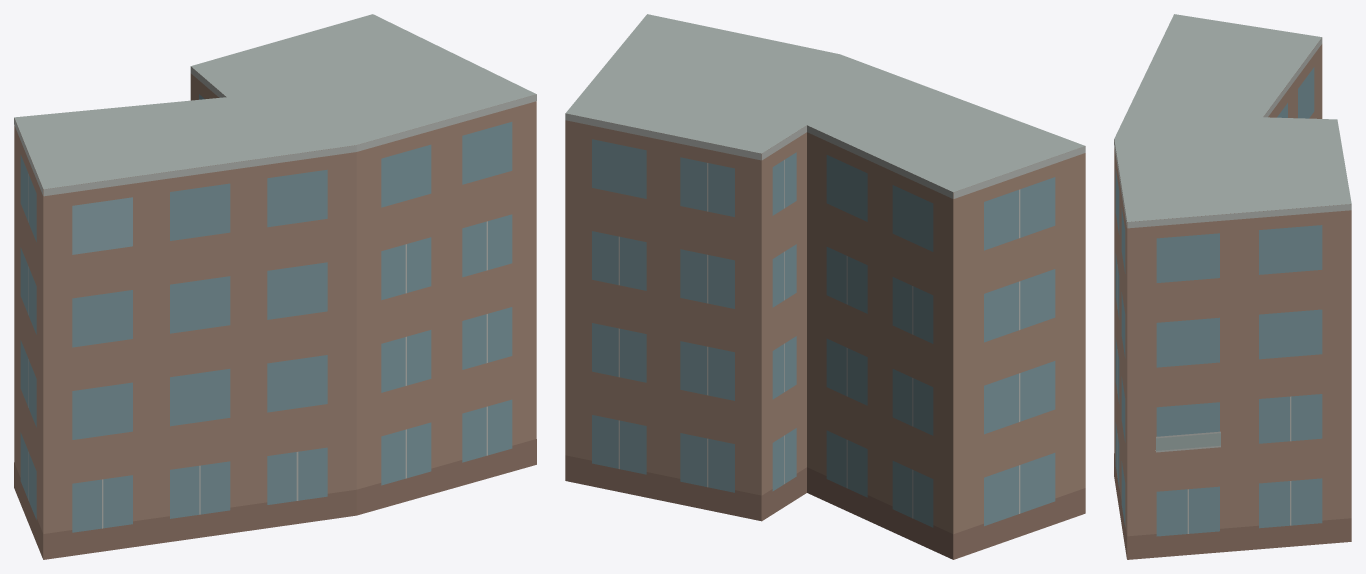
Rendered from survey-upis-32469921.glb.
The picture shows the model from 3 angles, left to right: view 1: azimuth 30°, elevation 25°; view 2: azimuth 150°, elevation 25°; view 3: azimuth 270°, elevation 25°; orthographic projection. The views are drawn at different scales.
Parts seen in each view (by area): view 1: survey-upis-32469921.tmp; view 2: survey-upis-32469921.tmp; view 3: survey-upis-32469921.tmp.
Part boxes in pixels (x1,y1,x2,y2): survey-upis-32469921.tmp: [14, 14, 536, 559]; survey-upis-32469921.tmp: [565, 14, 1085, 559]; survey-upis-32469921.tmp: [1114, 14, 1351, 559].
Size of the model in its own units: 17.21 by 13.02 by 8.31.
